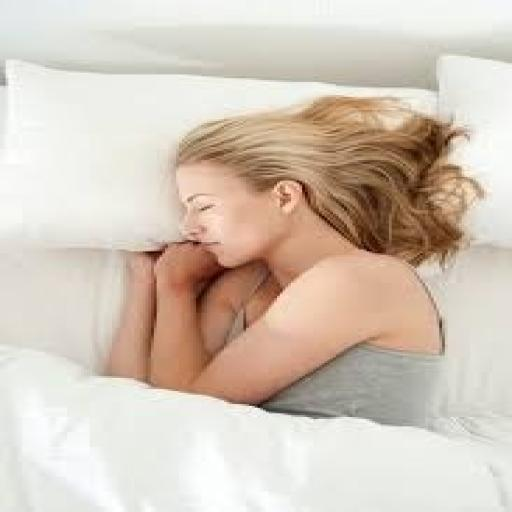sleeping: (101, 93, 487, 430)
